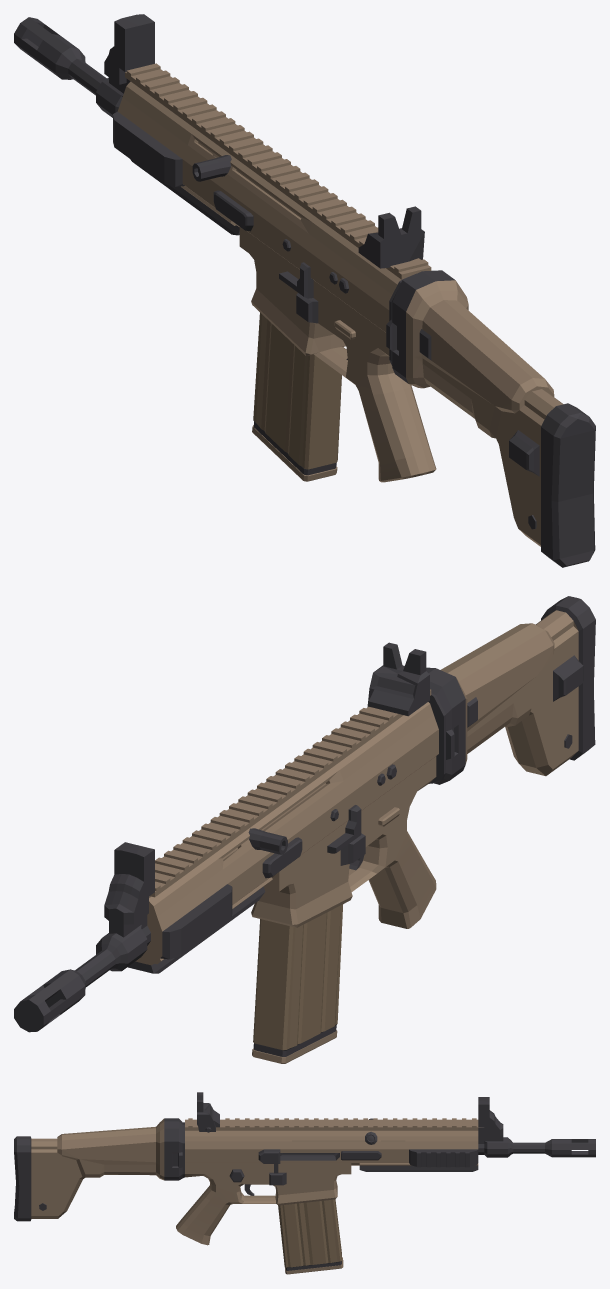
File: Mod_SCAR_H.glb
The picture shows the model from 3 angles, top to bottom: view 1: azimuth 30°, elevation 25°; view 2: azimuth 150°, elevation 25°; view 3: azimuth 270°, elevation 25°; orthographic projection. The views are drawn at different scales.
Visible parts, largest first — view 1: Mod_SCAR_H; view 2: Mod_SCAR_H; view 3: Mod_SCAR_H.
Part boxes in pixels (x1,y1,x2,y2): Mod_SCAR_H: (14, 14, 595, 567); Mod_SCAR_H: (14, 596, 595, 1063); Mod_SCAR_H: (14, 1092, 595, 1274).
Bounding box in the file's own units: 0.1 × 0.3856 × 1.18.
Materials: 1 (1 with a texture image).
